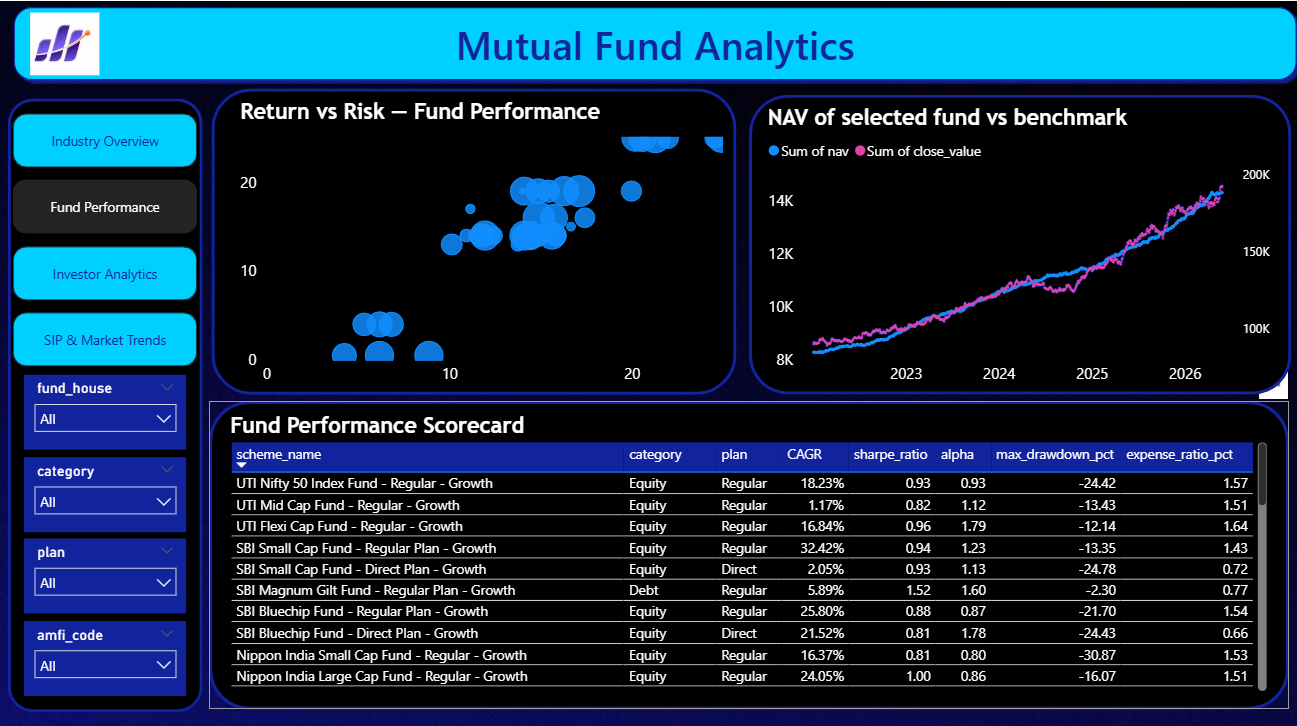

The dashboard page shown, as its layout file describes it:
{"tool":"powerbi","page":{"name":" Fund Performance","canvas":[1280,720],"ordinal":1},"visuals":[{"type":"shape","box":[208.6,85.9,515.3,300.6],"z":0},{"type":"shape","box":[206.1,392.6,1060.1,303.1],"z":1000},{"type":"scatterChart","title":"Return vs Risk — Fund Performance","fields":{"Category":["07_scheme_performance.amfi_code"],"Y":["Sum(07_scheme_performance.std_dev_ann_pct)"],"Size":["Sum(07_scheme_performance.aum_crore)"],"X":["Sum(07_scheme_performance.return_1yr_pct)"]},"box":[231.9,95.7,492,290.8],"z":2000},{"type":"shape","box":[735.8,92.3,532.4,294.3],"z":3000},{"type":"tableEx","title":"Fund Performance Scorecard","fields":{"Values":["01_fund_master.scheme_name","01_fund_master.category","01_fund_master.plan","cagr_report.CAGR","07_scheme_performance.sharpe_ratio","07_scheme_performance.alpha","07_scheme_performance.max_drawdown_pct","07_scheme_performance.expense_ratio_pct"]},"box":[222.2,404,1027.2,278.5],"z":4000},{"type":"lineChart","title":"NAV of selected fund vs benchmark","fields":{"Y":["Sum(02_nav_history.nav)"],"Y2":["Sum(10_benchmark_indices.close_value)"],"Category":["DateTable.Date"]},"box":[750.2,102.4,509.3,284.2],"z":5000},{"type":"shape","box":[8.6,95.7,191.4,602.5],"z":6000},{"type":"pageNavigator","box":[13.5,110.4,181.6,250.3],"z":7000},{"type":"slicer","fields":{"Values":["01_fund_master.fund_house"]},"box":[24.5,366.9,159.5,73.6],"z":8000},{"type":"slicer","fields":{"Values":["01_fund_master.category"]},"box":[24.5,447.9,159.5,73.6],"z":9000},{"type":"slicer","fields":{"Values":["01_fund_master.plan"]},"box":[24.5,527.6,159.5,73.6],"z":10000},{"type":"slicer","fields":{"Values":["02_nav_history.amfi_code"]},"box":[24.5,608.6,159.5,73.6],"z":11000},{"type":"shape","box":[8.7,0,1271.1,83.7],"z":12000},{"type":"image","box":[26,4.3,77.9,75],"z":13000}]}

Visuals, with their boxes in screenshot pixels (x1, y1, x2, y2), scaled from the page's 1280x720 canvas onto the 1297x726 screenshot:
shape: <bbox>211, 87, 734, 390</bbox>
shape: <bbox>209, 396, 1283, 701</bbox>
"Return vs Risk — Fund Performance" scatterChart: <bbox>235, 96, 734, 390</bbox>
shape: <bbox>746, 93, 1285, 390</bbox>
"Fund Performance Scorecard" tableEx: <bbox>225, 407, 1266, 688</bbox>
"NAV of selected fund vs benchmark" lineChart: <bbox>760, 103, 1276, 390</bbox>
shape: <bbox>9, 96, 203, 704</bbox>
pageNavigator: <bbox>14, 111, 198, 364</bbox>
slicer - 01_fund_master.fund_house: <bbox>25, 370, 186, 444</bbox>
slicer - 01_fund_master.category: <bbox>25, 452, 186, 526</bbox>
slicer - 01_fund_master.plan: <bbox>25, 532, 186, 606</bbox>
slicer - 02_nav_history.amfi_code: <bbox>25, 614, 186, 688</bbox>
shape: <bbox>9, 0, 1296, 84</bbox>
image: <bbox>26, 4, 105, 80</bbox>
